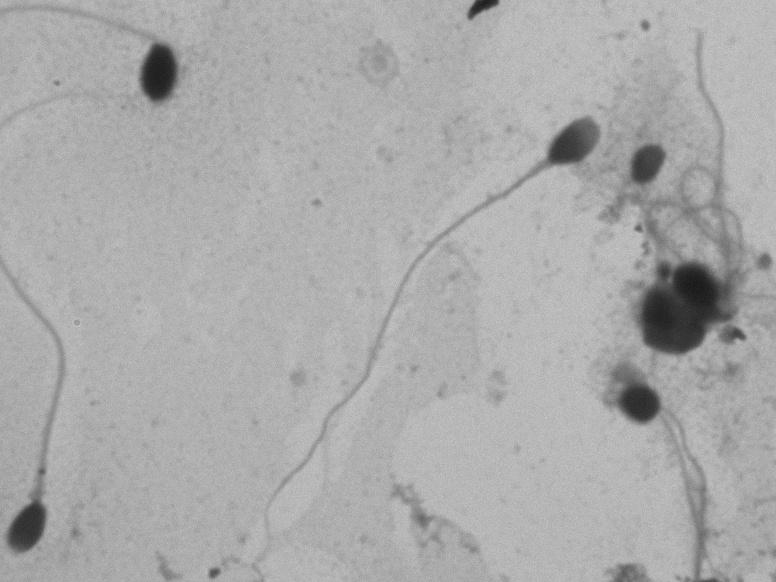Abnormal: (19, 13, 223, 131)
Normal: (229, 93, 601, 564)
